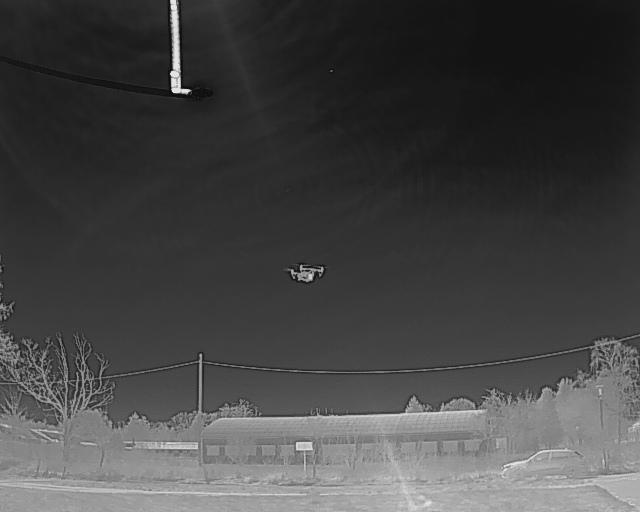drone: (281, 257, 327, 283)
